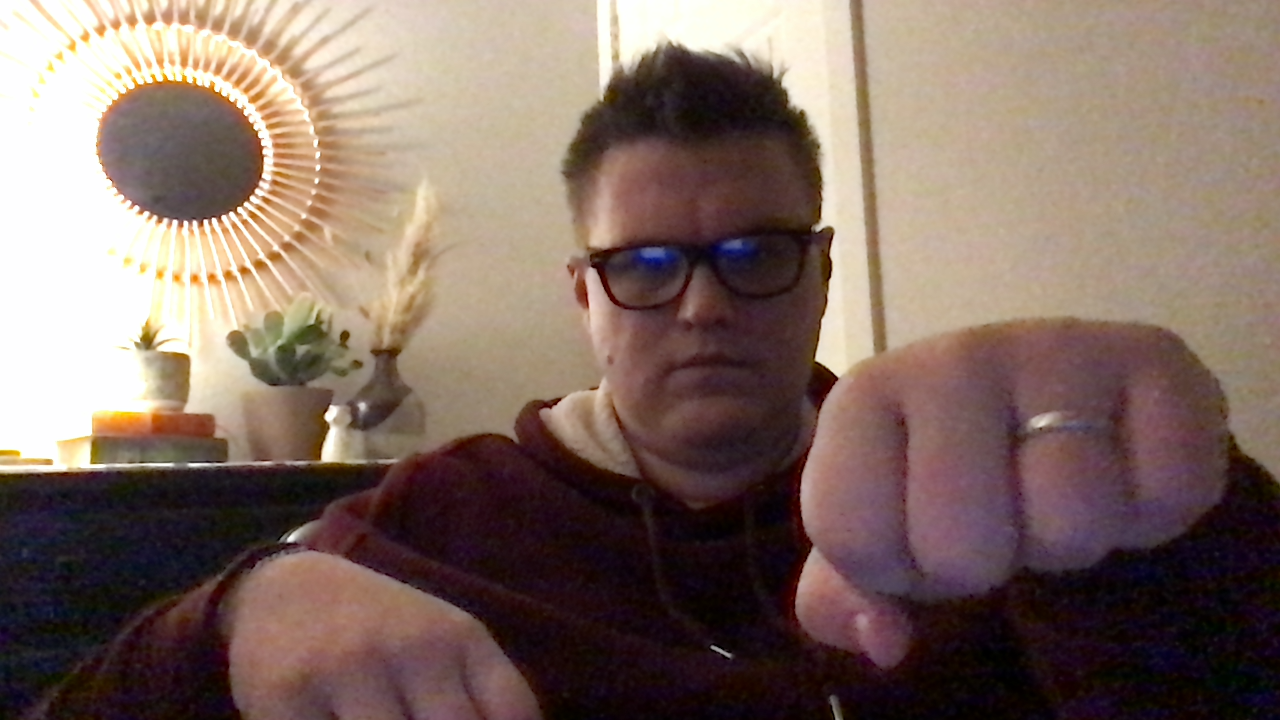yes: (787, 309, 1230, 668)
